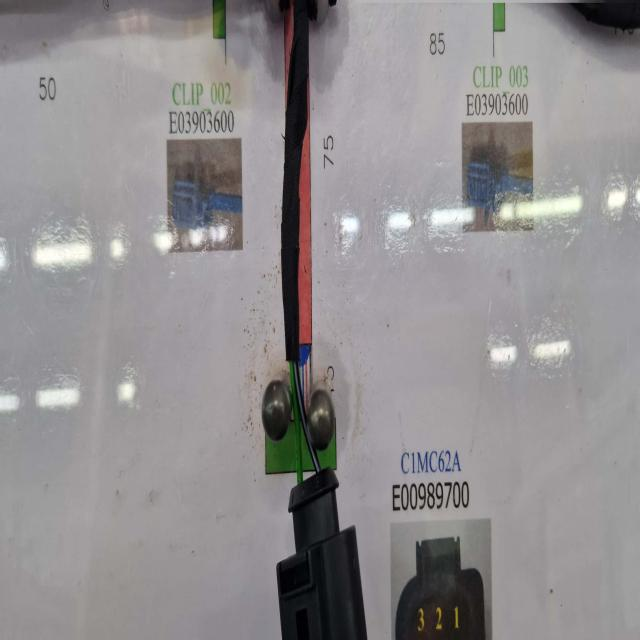Connector: (276, 433, 357, 640)
Gape: (284, 353, 316, 473)
MHEV_N11_Cable: (282, 30, 311, 365)
